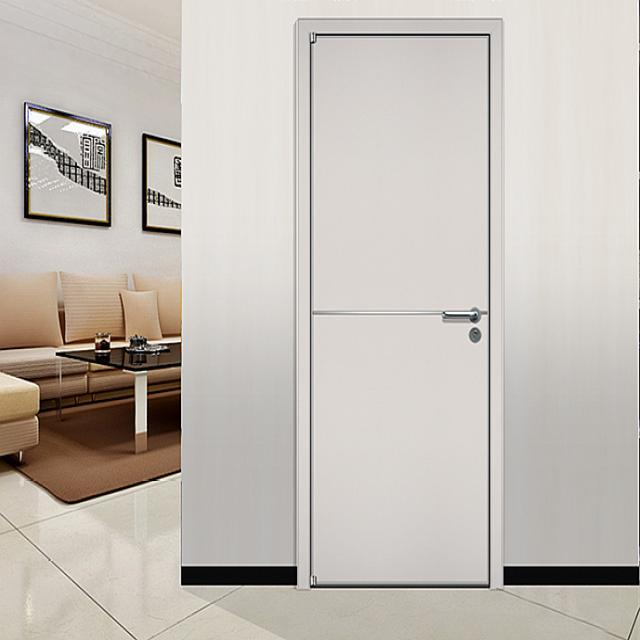close: (294, 25, 506, 587)
